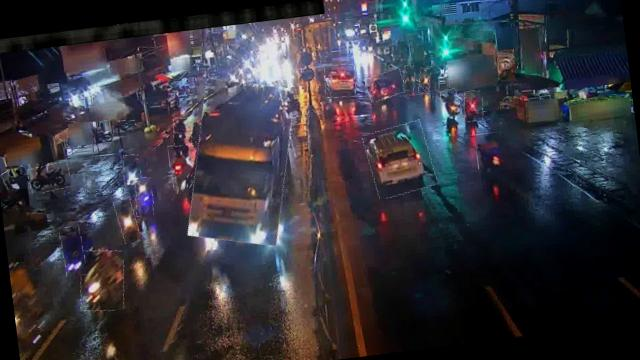Bike: (76, 248, 128, 314), (26, 161, 70, 193), (59, 224, 86, 276), (474, 132, 506, 174), (114, 198, 139, 244), (168, 144, 189, 188), (132, 176, 154, 217), (120, 153, 142, 193), (462, 90, 484, 122), (280, 86, 302, 118), (171, 116, 193, 146), (441, 88, 462, 117), (112, 118, 140, 138), (400, 65, 416, 90), (417, 68, 432, 94)
Car: (364, 120, 436, 197), (322, 62, 358, 100), (364, 68, 406, 100)
Truck: (178, 72, 304, 250)
